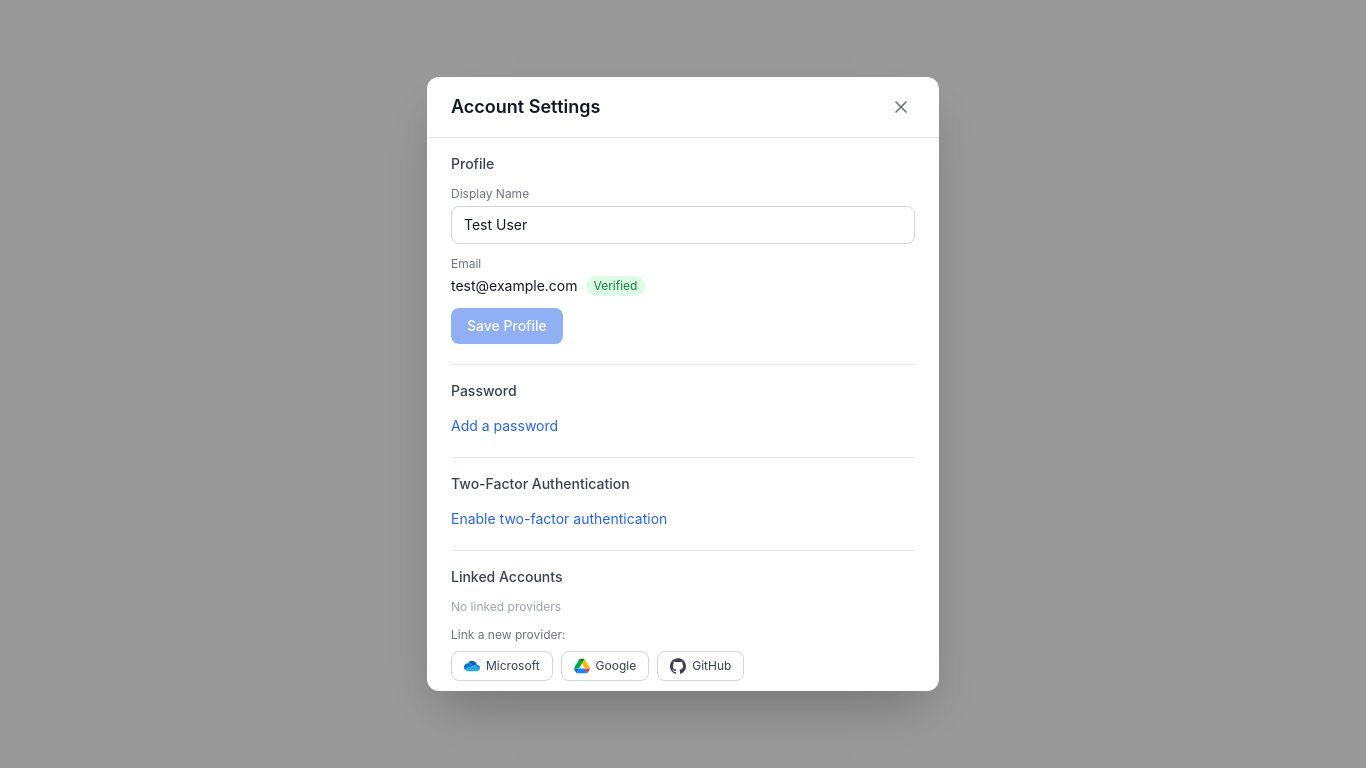
Test: AccountModal › shows min length error for short password
Click the button "Add a password": (505, 426) [451,416,558,436]
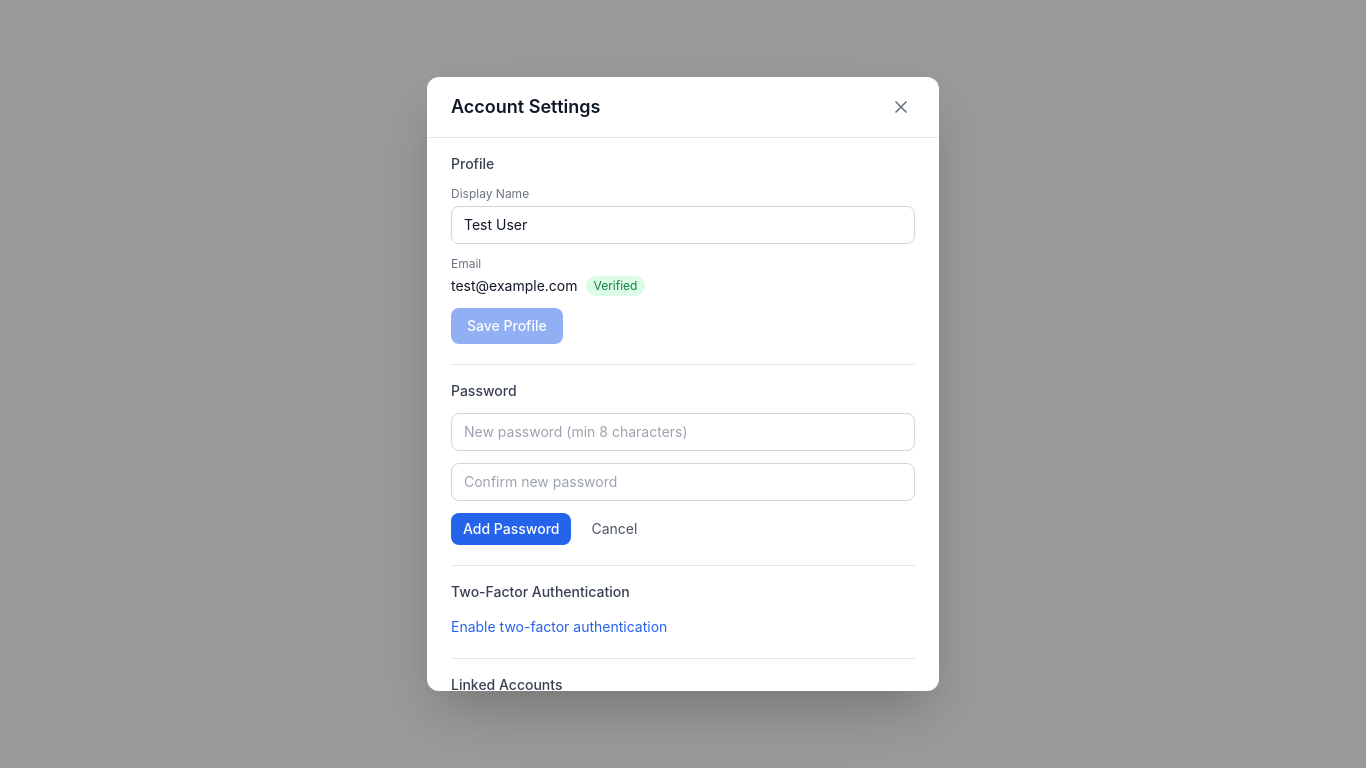
In the password field with placeholder "New password (min 8 characters)": (683, 432) [451,413,915,451], type "short"
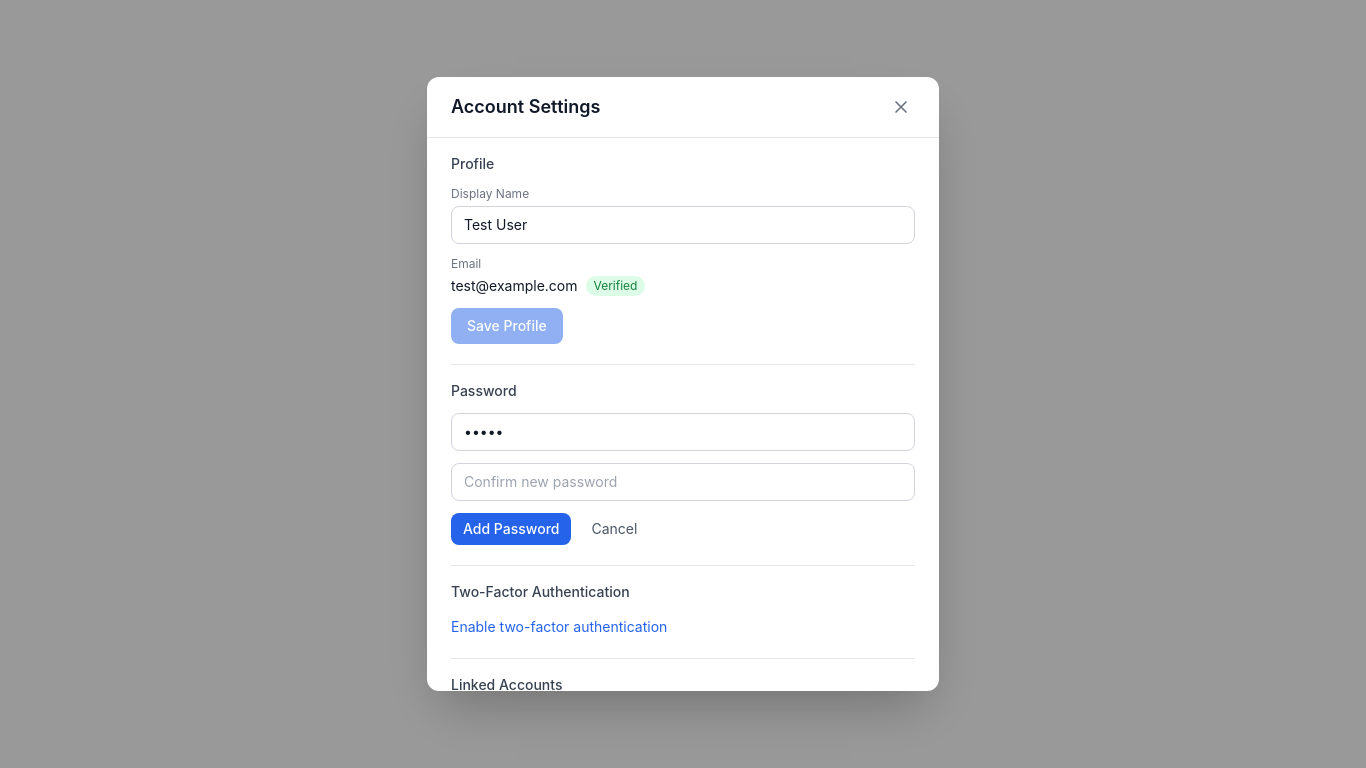
In the password field with placeholder "Confirm new password": (683, 482) [451,463,915,501], type "short"
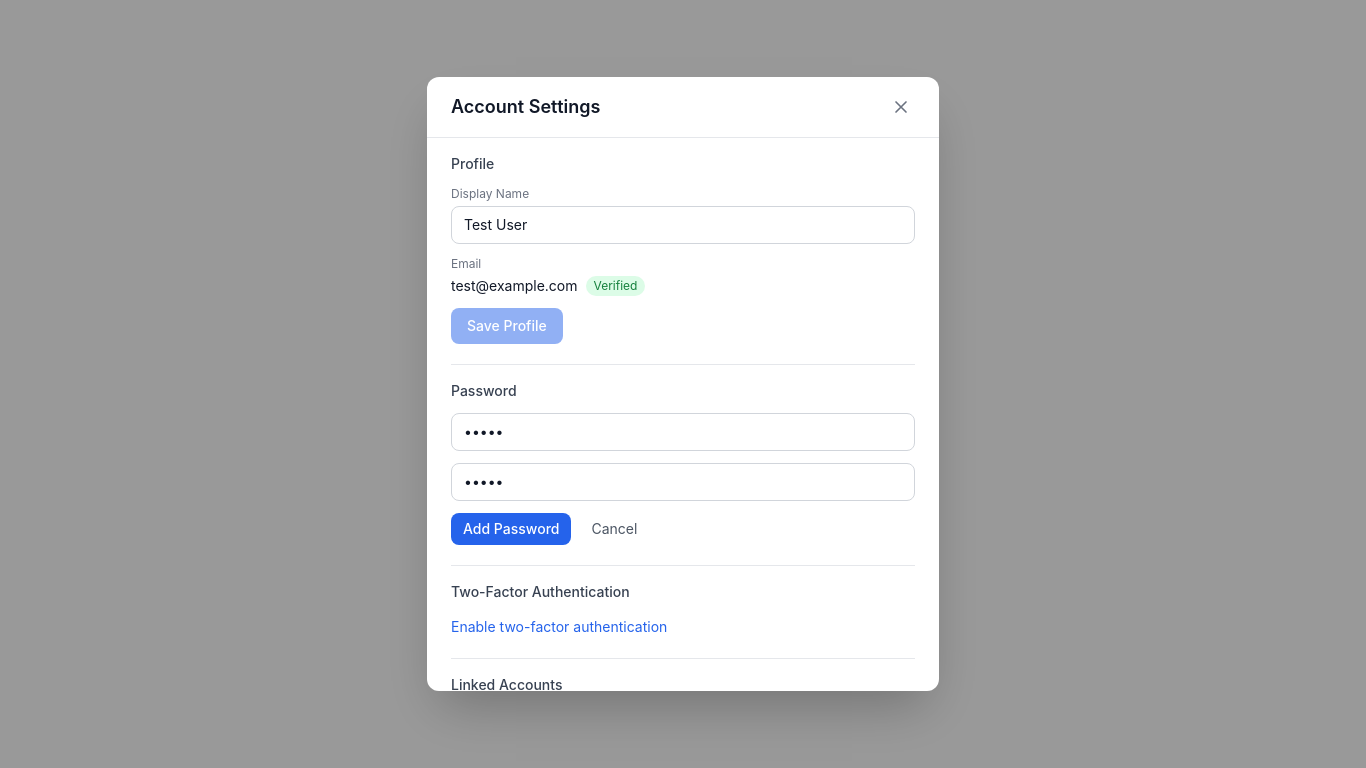
Click the button "Add Password": (511, 529) [451,513,572,545]
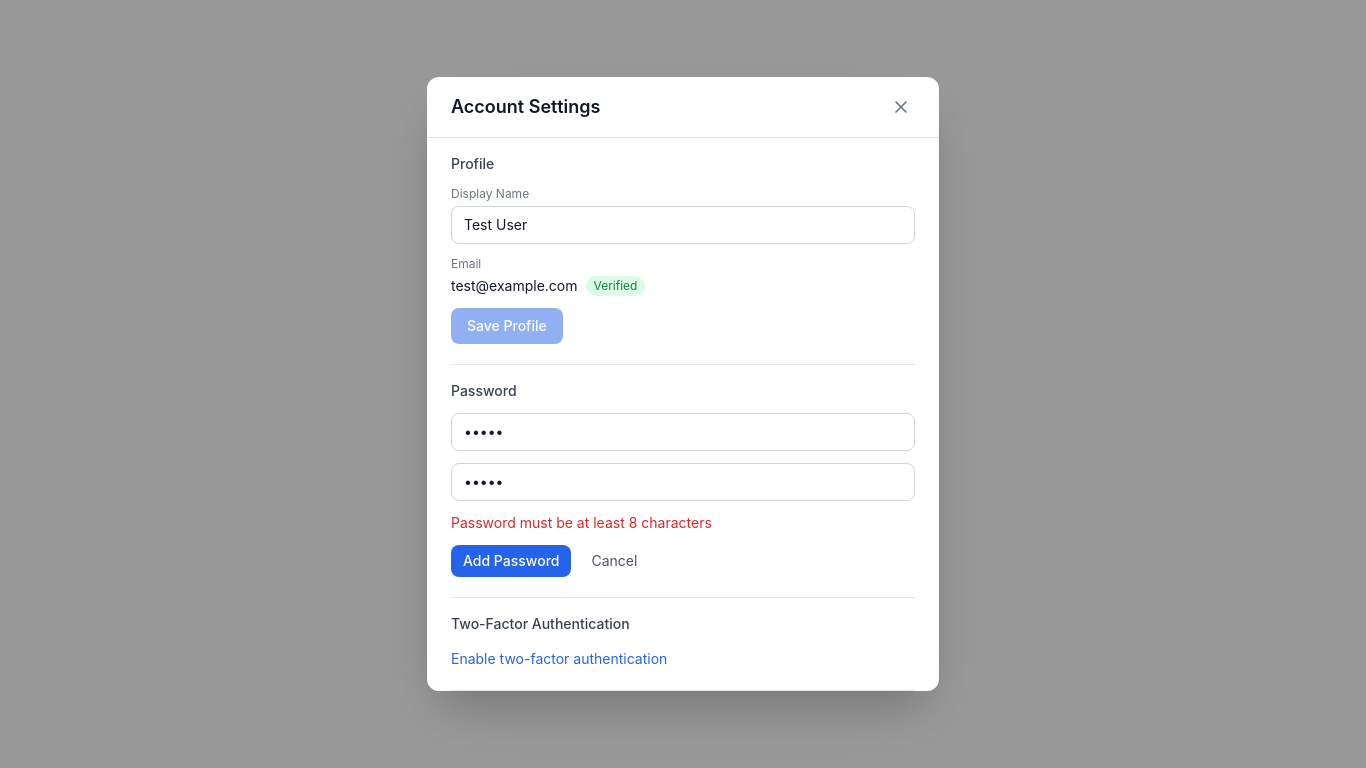
Now the text "Password must be at least 8 characters" is shown, box [451,514,712,531]
